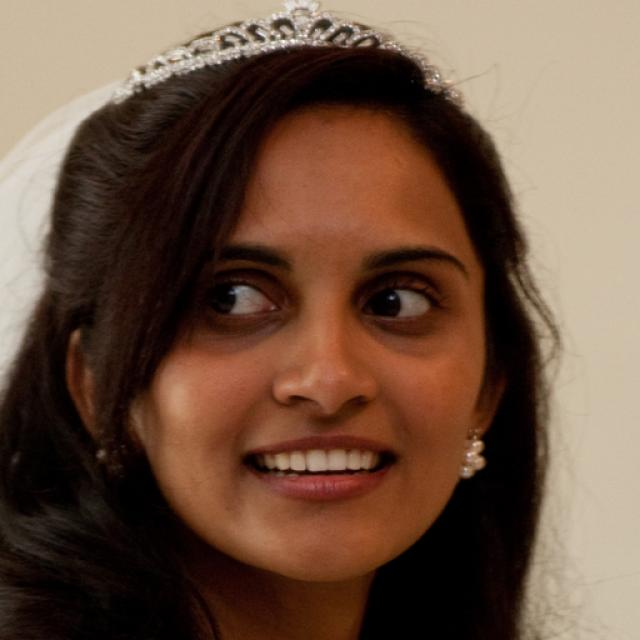Dark Circle: (195, 316, 285, 352), (359, 316, 440, 352)
